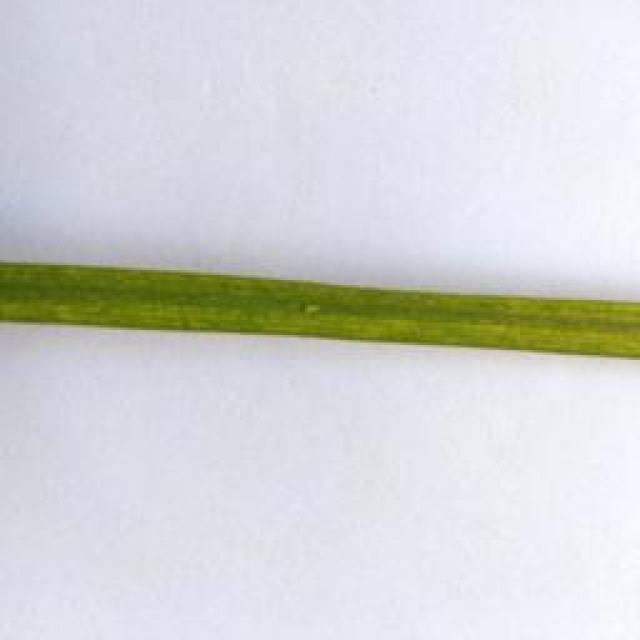Healthy-Plant: (0, 258, 640, 358)
